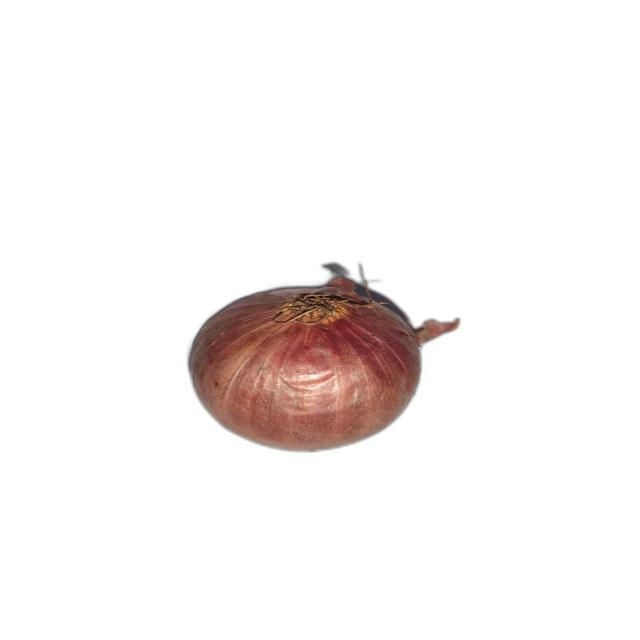onion: (188, 277, 459, 451)
